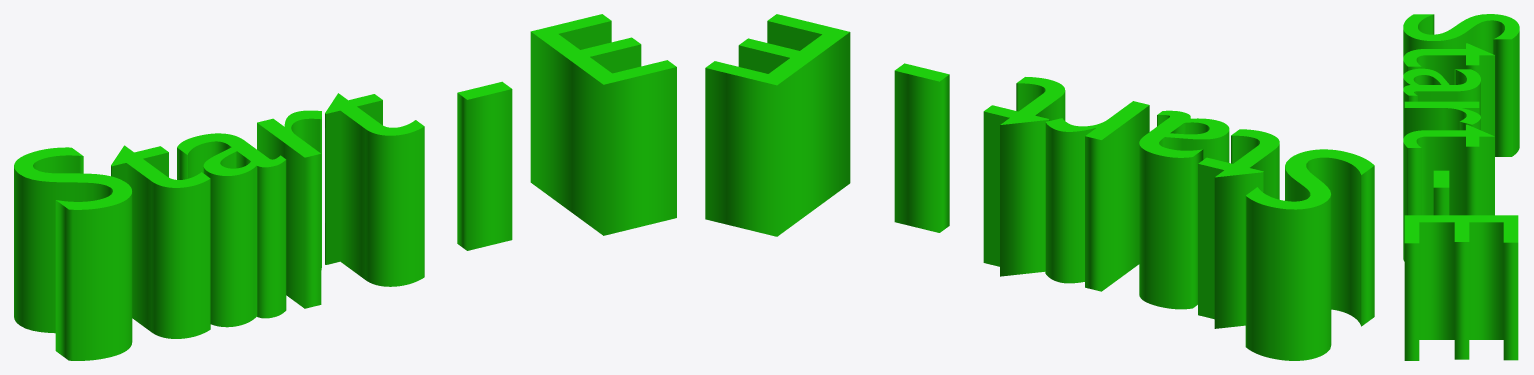
File: Start.fbx
3 views of the same model, side by side, from view 1: azimuth 30°, elevation 25°; view 2: azimuth 150°, elevation 25°; view 3: azimuth 270°, elevation 25° (orthographic). The views are drawn at different scales.
Visible parts, largest first — view 1: Text; view 2: Text; view 3: Text.
Boxes of the visible parts, box(x1,y1,x2,y2) form: Text: box(14, 14, 676, 360); Text: box(705, 14, 1374, 360); Text: box(1403, 14, 1519, 360).
Size of the model in its own units: 326 by 78 by 70.
